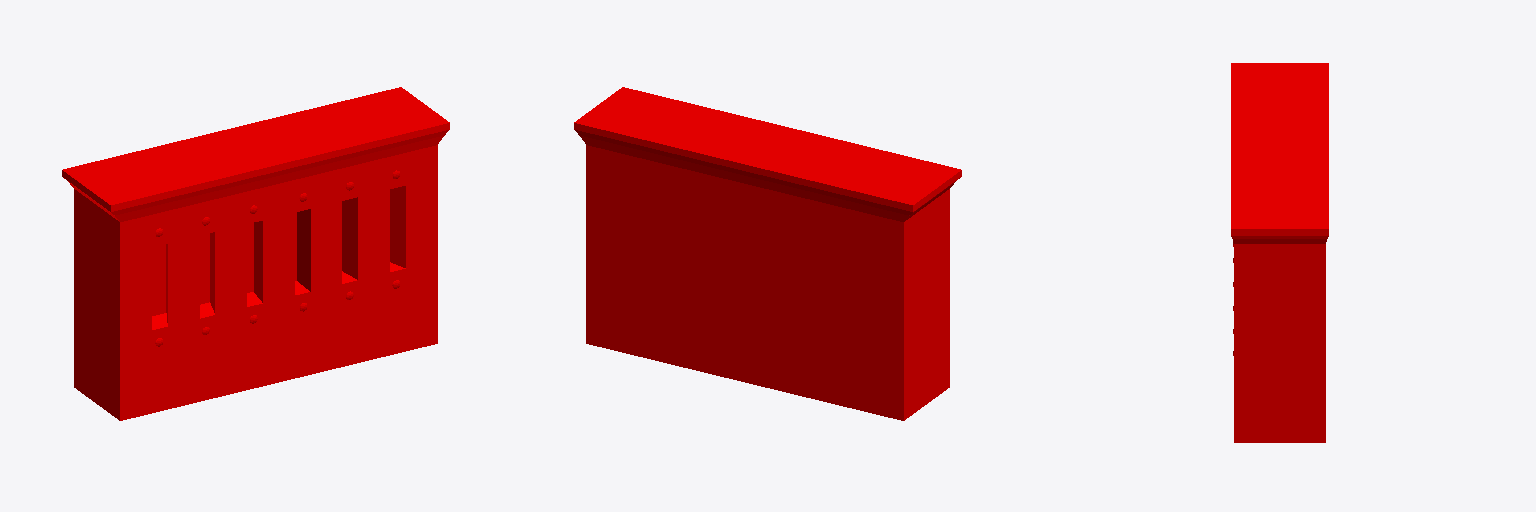
Rendered from wall_red.obj.
3 views of the same model, side by side, from view 1: azimuth 30°, elevation 25°; view 2: azimuth 150°, elevation 25°; view 3: azimuth 270°, elevation 25° (orthographic).
Bounding box in the file's own units: 8.56 × 5.29 × 2.14.